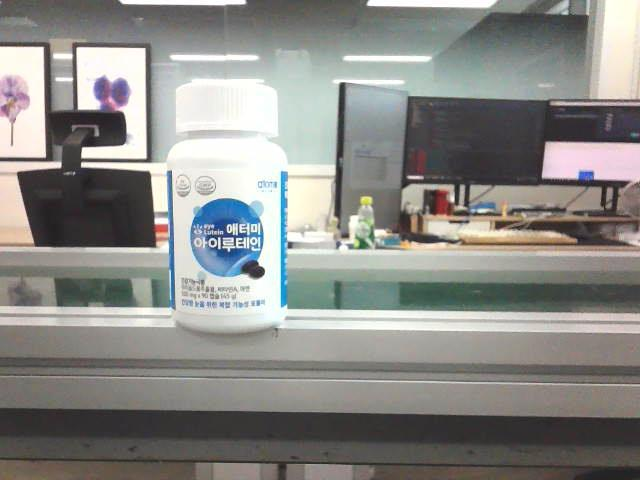labeled: (164, 76, 292, 336)
